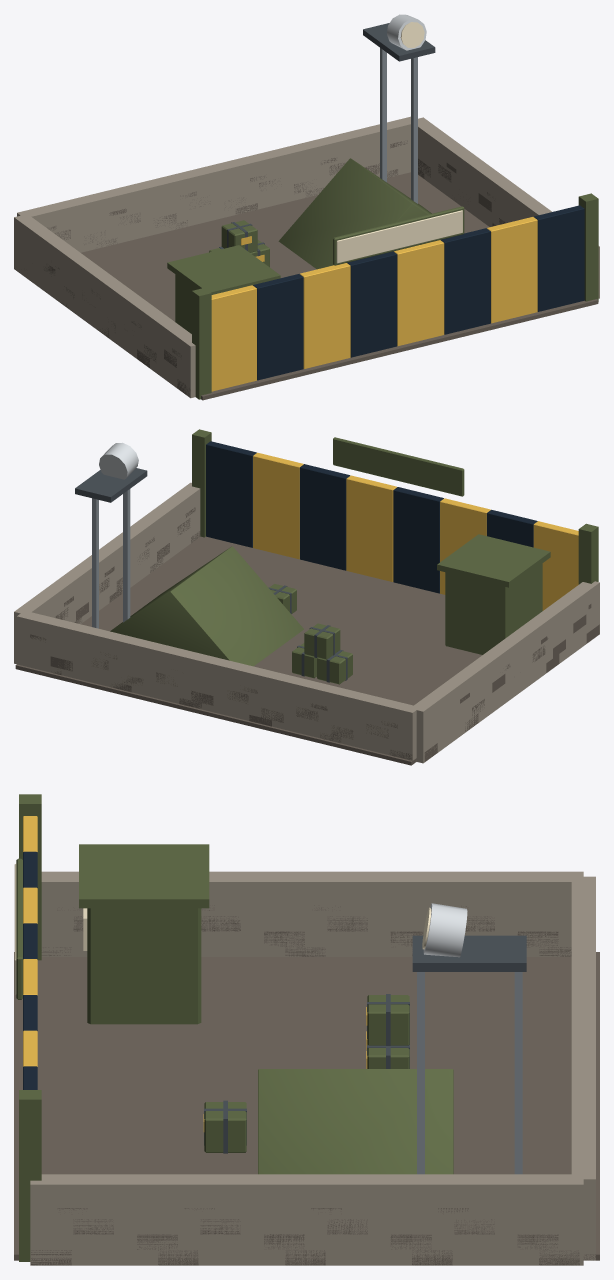
The model's file is Bldg_Checkpoint.fbx.
3 renders of one model, top to bottom at view 1: azimuth 30°, elevation 25°; view 2: azimuth 150°, elevation 25°; view 3: azimuth 270°, elevation 25°, orthographic. The views are drawn at different scales.
Parts seen in each view (by area): view 1: Barrier, Bags3, Decor, Slab, Bags1, Tent, Bags2, Sign1, GatePost1, GatePost2, Booth, Crate3; view 2: Barrier, Decor, Slab, Bags3, Tent, Bags1, Bags2, Booth, GatePost1, GatePost2, Crate3, Crate1 (+1 smaller); view 3: Slab, Bags2, Decor, Bags1, Tent, Booth, Bags3, Barrier, GatePost2, Crate3, Crate4, GatePost1 (+1 smaller).
Part boxes in pixels (left/top/right/bottom): Barrier: left=211, top=205, right=584, bottom=391; Bags3: left=17, top=116, right=410, bottom=252; Decor: left=16, top=14, right=523, bottom=396; Slab: left=81, top=172, right=598, bottom=400; Bags1: left=14, top=214, right=195, bottom=398; Tent: left=278, top=158, right=431, bottom=269; Bags2: left=410, top=117, right=599, bottom=298; Sign1: left=336, top=210, right=462, bottom=263; GatePost1: left=192, top=288, right=211, bottom=399; GatePost2: left=578, top=193, right=598, bottom=301; Booth: left=175, top=274, right=196, bottom=333; Crate3: left=221, top=220, right=257, bottom=252; Barrier: left=206, top=441, right=578, bottom=610; Decor: left=28, top=437, right=599, bottom=761; Slab: left=15, top=536, right=482, bottom=765; Bags3: left=17, top=610, right=416, bottom=760; Tent: left=110, top=546, right=303, bottom=666; Bags1: left=410, top=581, right=599, bottom=763; Bags2: left=14, top=482, right=200, bottom=664; Booth: left=445, top=563, right=542, bottom=654; GatePost1: left=578, top=523, right=598, bottom=584; GatePost2: left=192, top=429, right=211, bottom=537; Crate3: left=304, top=623, right=340, bottom=659; Crate1: left=317, top=651, right=352, bottom=684; Slab: left=14, top=952, right=599, bottom=1260; Bags2: left=30, top=1174, right=583, bottom=1265; Decor: left=16, top=844, right=579, bottom=1265; Bags1: left=41, top=871, right=583, bottom=956; Tent: left=258, top=1069, right=453, bottom=1174; Booth: left=87, top=908, right=201, bottom=1024; Bags3: left=571, top=876, right=595, bottom=1260; Barrier: left=23, top=816, right=37, bottom=1089; GatePost2: left=19, top=1090, right=41, bottom=1261; Crate3: left=367, top=995, right=409, bottom=1045; Crate4: left=204, top=1102, right=246, bottom=1152; GatePost1: left=19, top=794, right=41, bottom=960.
Size of the model in its own units: 45.5 by 21.27 by 36.
